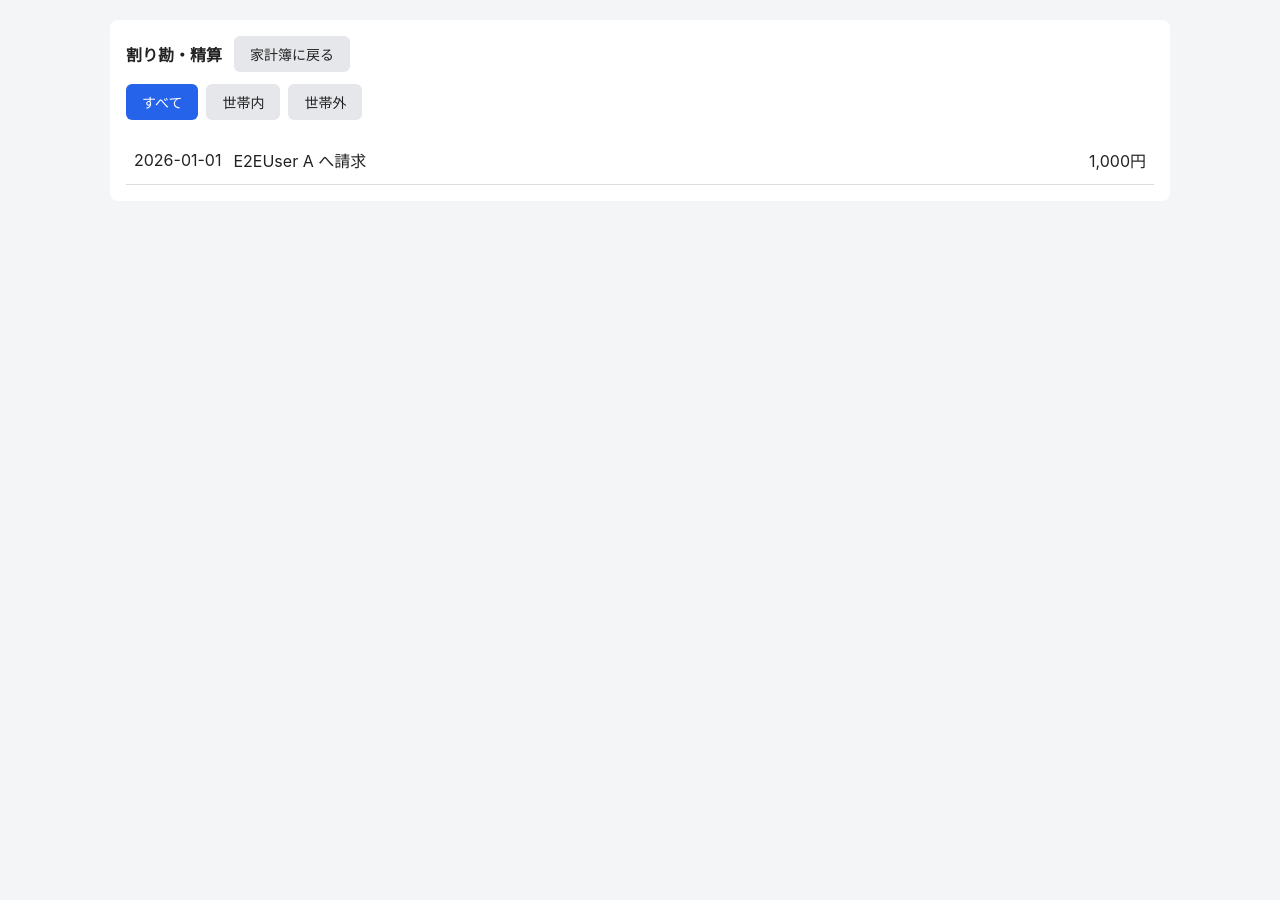
Test: WarikanPage(改訂フロー) › 世帯外の精算済みは、精算の収入と残高も戻ることを確認して削除できる (settlementLedgerRemoved=true) (#302)
Click the button with aria-label "共同購入": (178, 160) [126,136,1154,185]
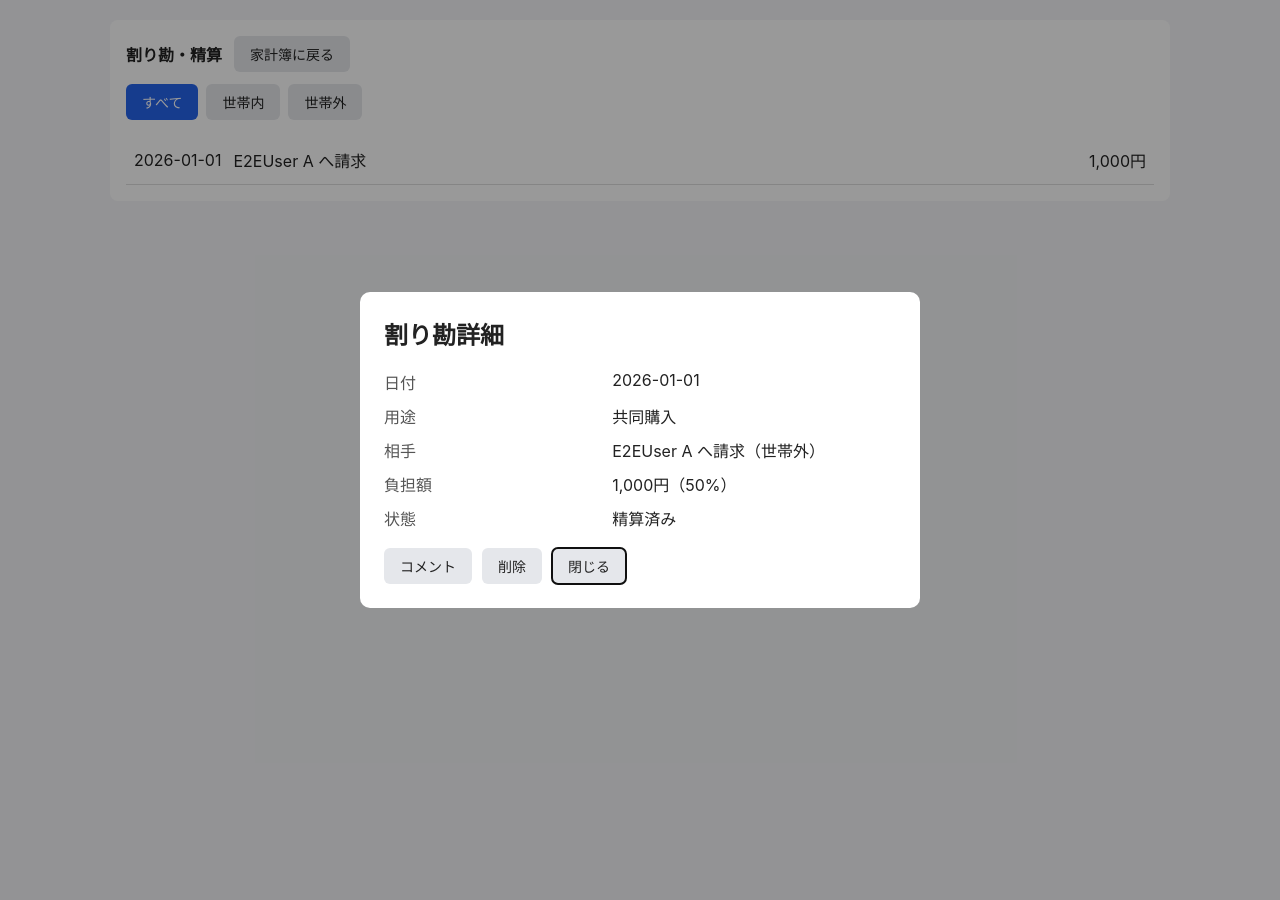
Click the button "削除": (512, 566) [482,548,542,584]
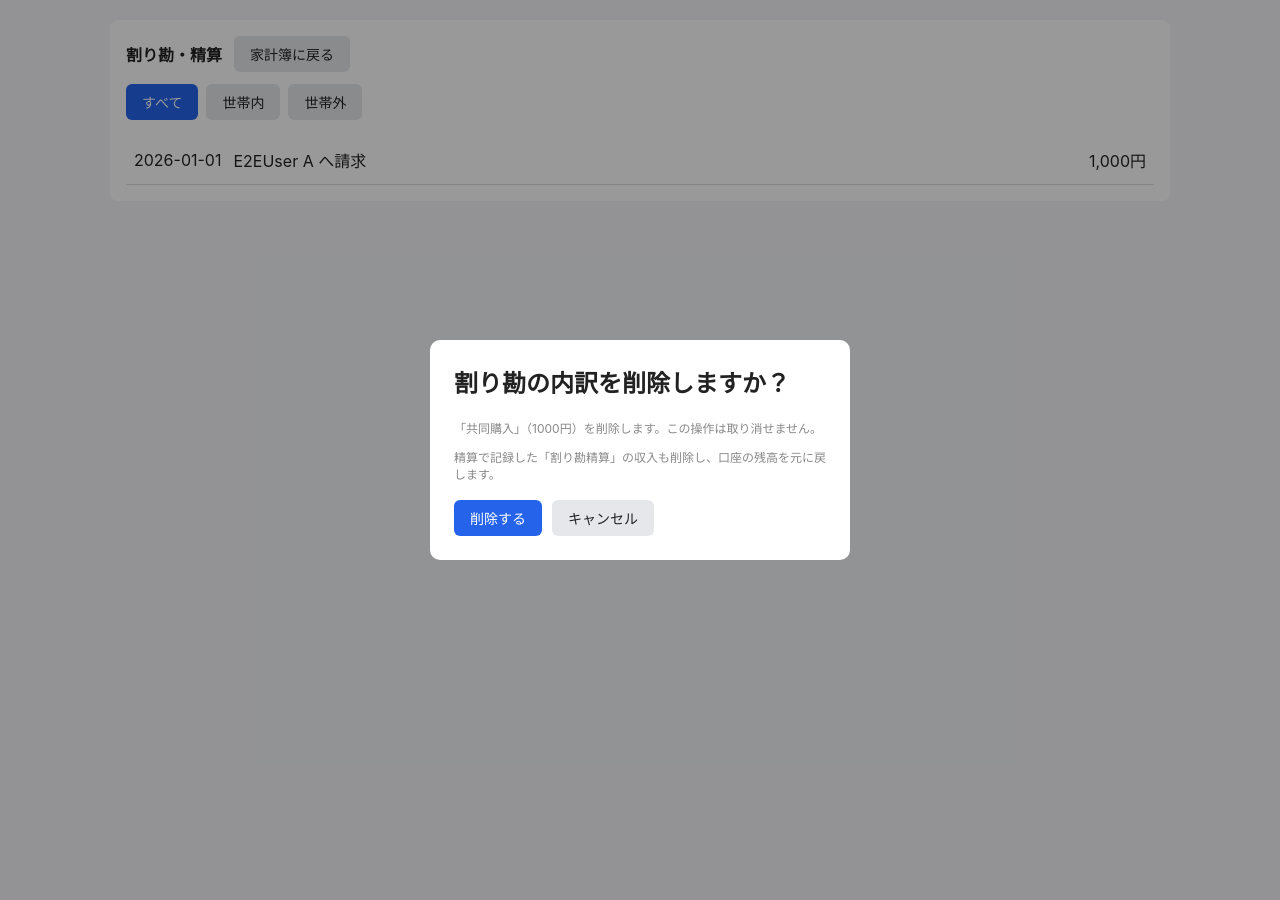
Click the button "削除する": (498, 518) [454,500,542,536]
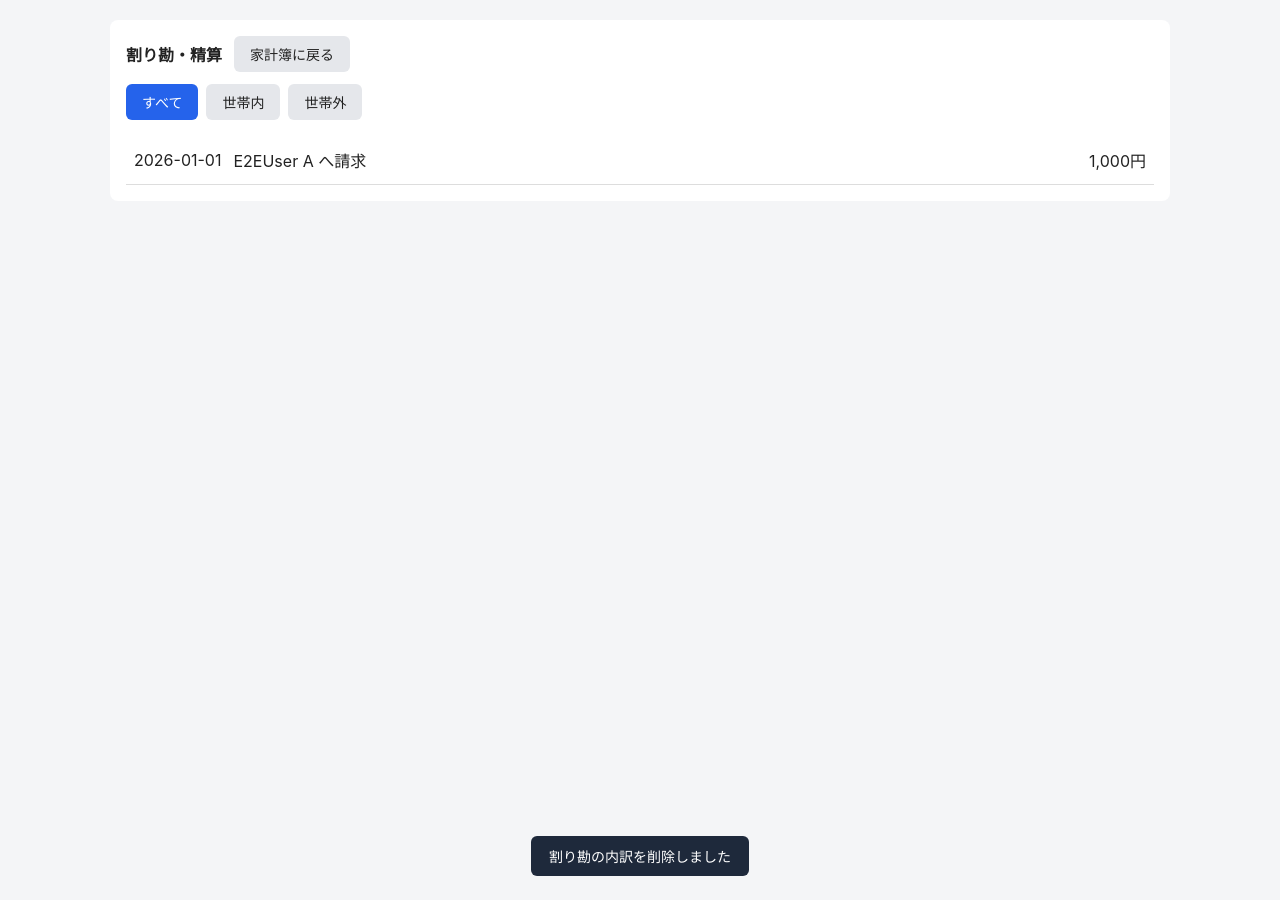
Expected: the text "割り勘の内訳を削除しました" is shown, [531,836,749,876]
